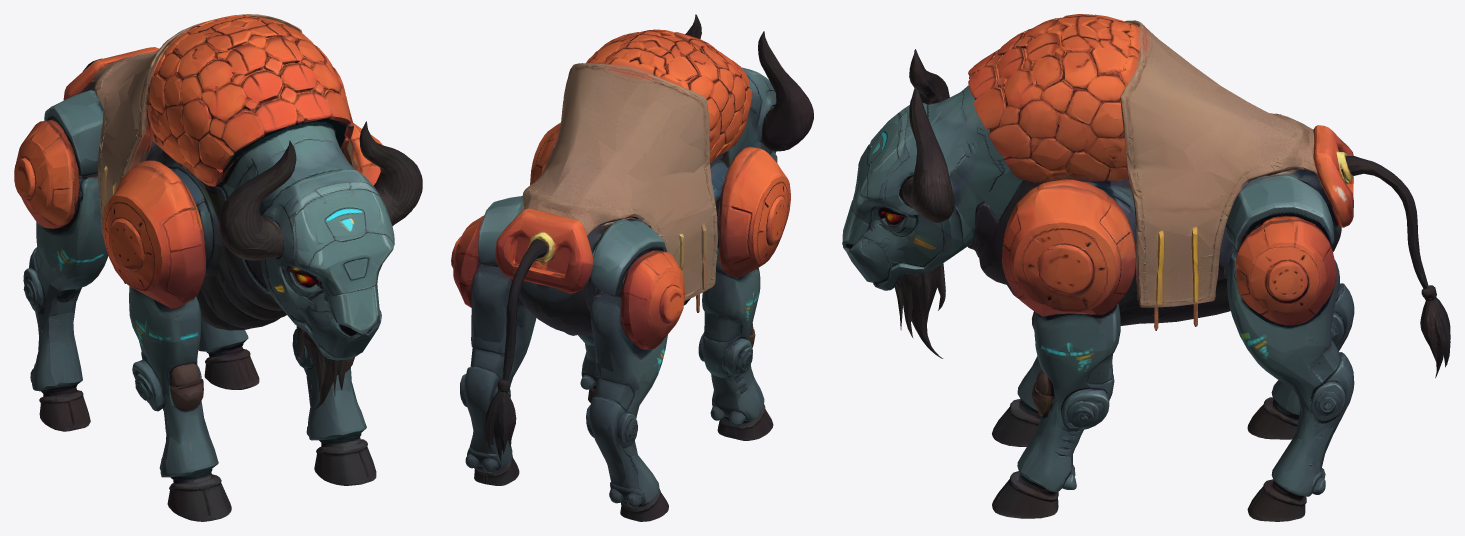
The model's file is mount-forge-bull-mesh.glb.
3 views of the same model, side by side, from view 1: azimuth 30°, elevation 25°; view 2: azimuth 150°, elevation 25°; view 3: azimuth 270°, elevation 25° (orthographic). The views are drawn at different scales.
Visible parts, largest first — view 1: Mesh_0; view 2: Mesh_0; view 3: Mesh_0.
Boxes of the visible parts, bbox=[...] form: Mesh_0: bbox=[14, 14, 422, 521]; Mesh_0: bbox=[451, 14, 813, 521]; Mesh_0: bbox=[842, 14, 1450, 521].
Bounding box in the file's own units: 0.9667 × 1.54 × 1.9.
1 material, 1 textured.
